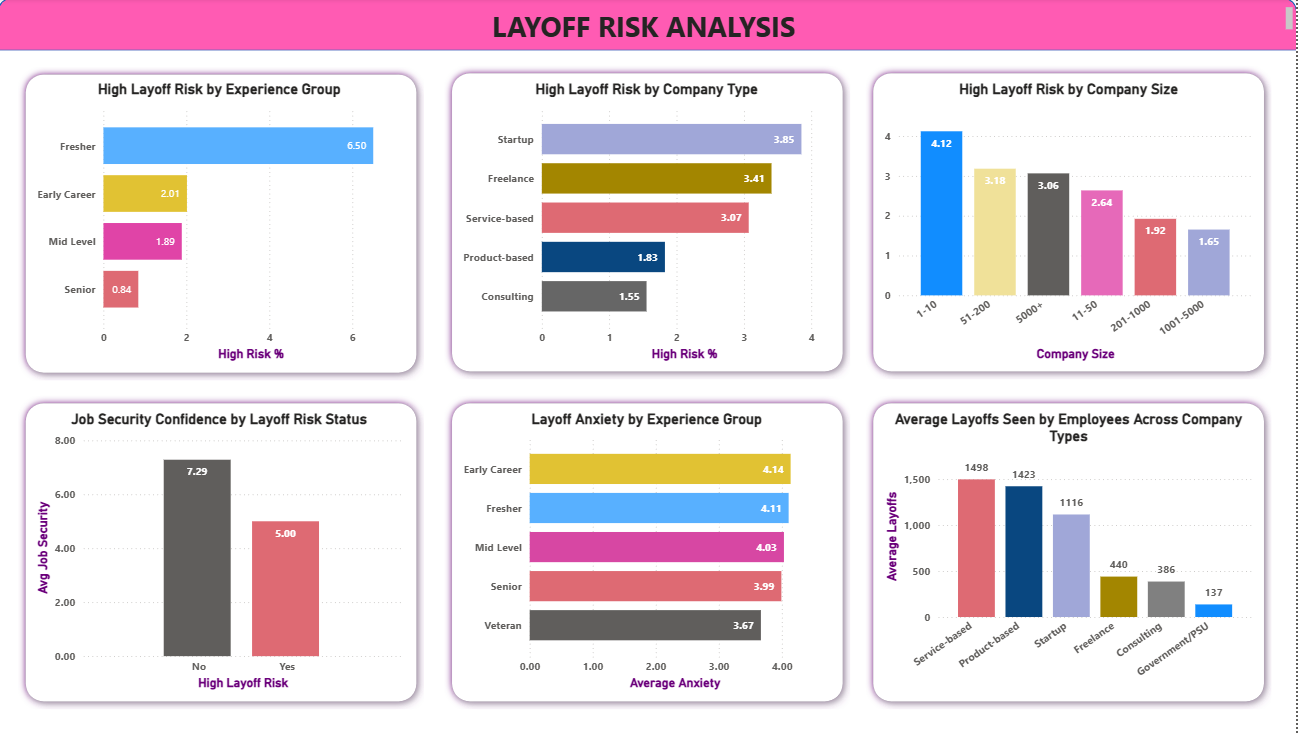

What the dashboard file says about the page in this screenshot:
{"tool":"powerbi","page":{"name":"Page 2","canvas":[1500,850],"ordinal":1},"visuals":[{"type":"shape","box":[0,0,1499.9,60.6],"z":0},{"type":"textbox","box":[0,5.8,1499.9,49.1],"z":1000},{"type":"shape","box":[1001.9,78,469.2,362.3],"z":2000},{"type":"shape","box":[1001.9,459.1,469.2,362.3],"z":3000},{"type":"shape","box":[515.4,459.1,469.2,362.3],"z":4000},{"type":"shape","box":[515.4,78,469.2,362.3],"z":5000},{"type":"shape","box":[23.1,459.1,469.2,362.3],"z":6000},{"type":"shape","box":[23.1,79.4,469.2,362.3],"z":7000},{"type":"clusteredBarChart","title":"High Layoff Risk by Experience Group","fields":{"Category":["public developer_burnout_data.Experience Group"],"Y":["public developer_burnout_data.High Risk %"]},"box":[39,95.3,433.1,329.1],"z":8000},{"type":"clusteredBarChart","title":"High Layoff Risk by Company Type","fields":{"Category":["public developer_burnout_data.company_type"],"Y":["public developer_burnout_data.High Risk %"]},"box":[531.3,95.3,436,329.1],"z":9000},{"type":"clusteredColumnChart","title":"High Layoff Risk by Company Size","fields":{"Category":["public developer_burnout_data.company_size"],"Y":["public developer_burnout_data.High Risk %"]},"box":[1019.2,95.3,434.5,329.1],"z":10000},{"type":"clusteredColumnChart","title":"Job Security Confidence by Layoff Risk Status","fields":{"Category":["public developer_burnout_data.high_layoff_risk"],"Y":["public developer_burnout_data.Avg Job Security"]},"box":[39,476.4,433.1,327.7],"z":11000},{"type":"clusteredBarChart","title":"Layoff Anxiety by Experience Group","fields":{"Category":["public developer_burnout_data.Experience Group"],"Y":["public developer_burnout_data.Avg anxiety"]},"box":[531.3,476.4,436,327.7],"z":12000},{"type":"clusteredColumnChart","title":"Average Layoffs Seen by Employees Across Company Types","fields":{"Category":["public developer_burnout_data.company_type"],"Y":["CountNonNull(public developer_burnout_data.layoffs_seen_in_company)"]},"box":[1019.2,476.4,434.5,327.7],"z":13000}]}

Visuals, with their boxes in screenshot pixels (x1, y1, x2, y2), scaled from the page's 1500x850 canvas onto the 1298x734 screenshot:
shape: x1=0, y1=0, x2=1297, y2=52
textbox: x1=0, y1=5, x2=1297, y2=47
shape: x1=867, y1=67, x2=1273, y2=380
shape: x1=867, y1=396, x2=1273, y2=709
shape: x1=446, y1=396, x2=852, y2=709
shape: x1=446, y1=67, x2=852, y2=380
shape: x1=20, y1=396, x2=426, y2=709
shape: x1=20, y1=69, x2=426, y2=381
"High Layoff Risk by Experience Group" clusteredBarChart: x1=34, y1=82, x2=409, y2=366
"High Layoff Risk by Company Type" clusteredBarChart: x1=460, y1=82, x2=837, y2=366
"High Layoff Risk by Company Size" clusteredColumnChart: x1=882, y1=82, x2=1258, y2=366
"Job Security Confidence by Layoff Risk Status" clusteredColumnChart: x1=34, y1=411, x2=409, y2=694
"Layoff Anxiety by Experience Group" clusteredBarChart: x1=460, y1=411, x2=837, y2=694
"Average Layoffs Seen by Employees Across Company Types" clusteredColumnChart: x1=882, y1=411, x2=1258, y2=694
